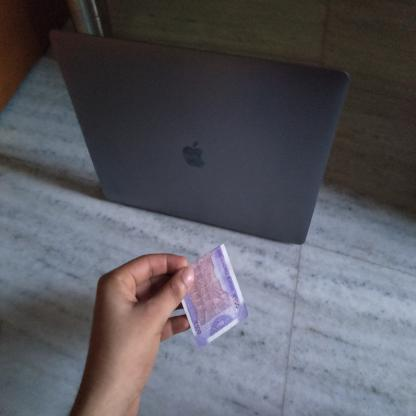New100Back: (184, 244, 242, 336)
